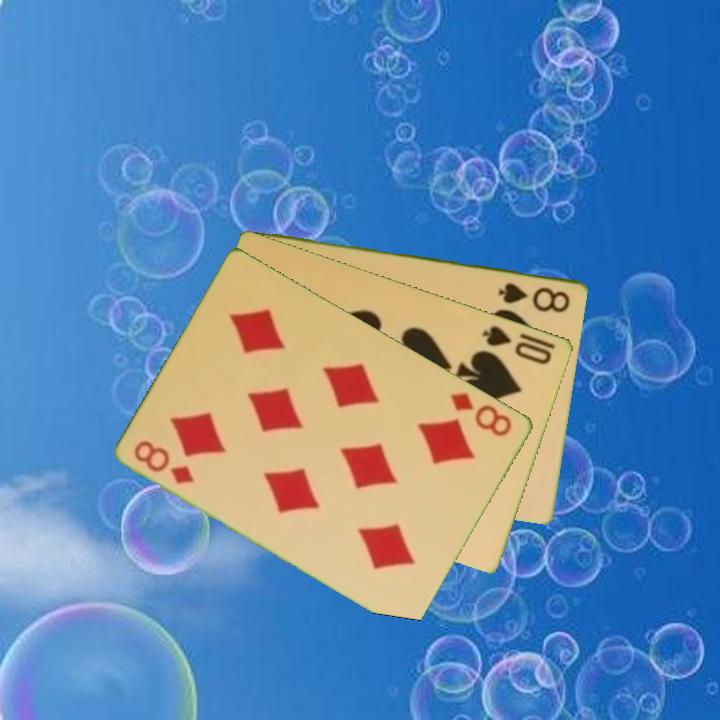10s: (479, 321, 555, 367)
8d: (447, 389, 516, 440), (130, 436, 198, 487)
8s: (495, 278, 573, 316)
